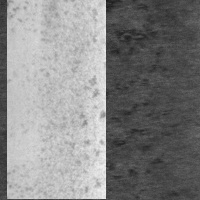pitted_surface: (7, 0, 106, 199)
rolled-in_scale: (84, 71, 175, 179), (83, 24, 163, 66)
